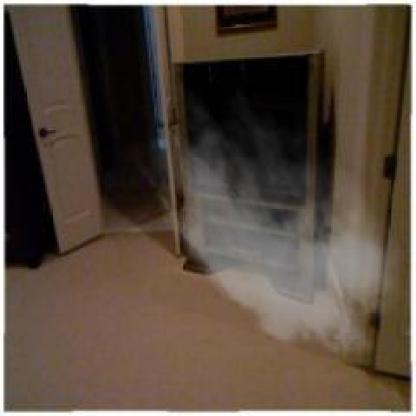Smoke: (167, 51, 402, 299)
